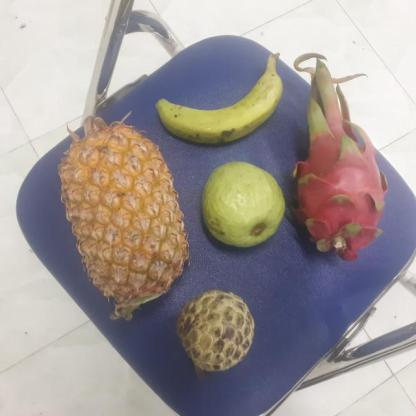annona: (173, 288, 254, 370)
banana: (156, 61, 283, 145)
guava: (196, 162, 286, 245)
pineapple: (54, 119, 186, 312)
pitaya: (284, 116, 389, 254)
